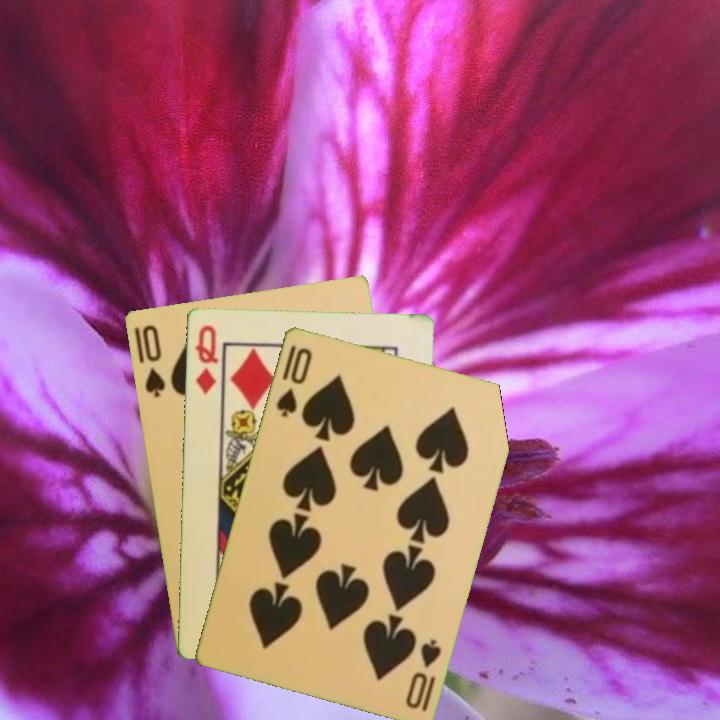10s: (401, 635, 444, 714), (272, 343, 315, 420), (138, 321, 168, 400)
Qd: (191, 321, 221, 397)
